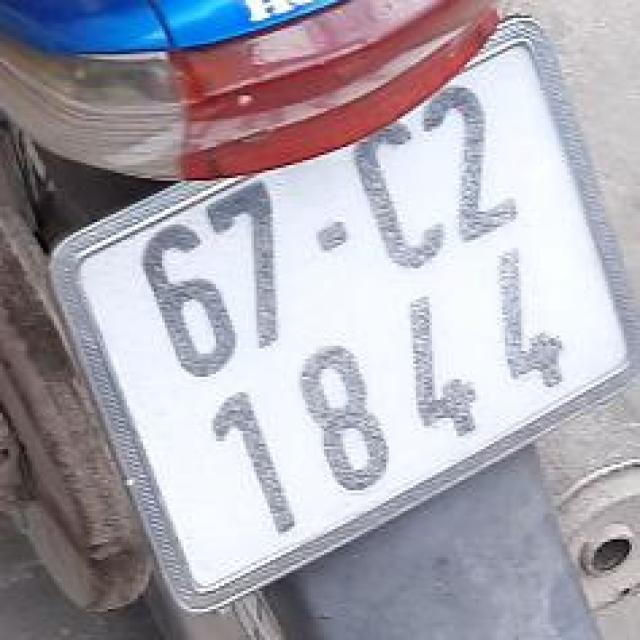1: (188, 380, 324, 551)
2: (412, 68, 538, 260)
4: (376, 273, 500, 465), (466, 232, 589, 418)
6: (128, 208, 253, 394)
7: (196, 168, 311, 367)
8: (275, 328, 413, 511)
C: (338, 107, 459, 288)
